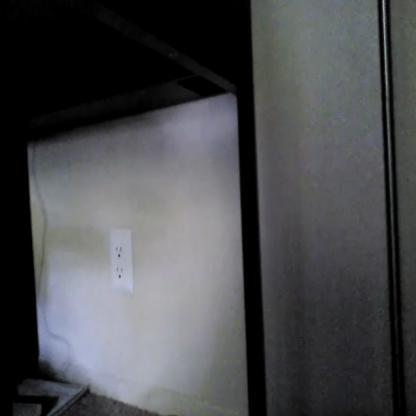OUTLET: (109, 227, 132, 290)
